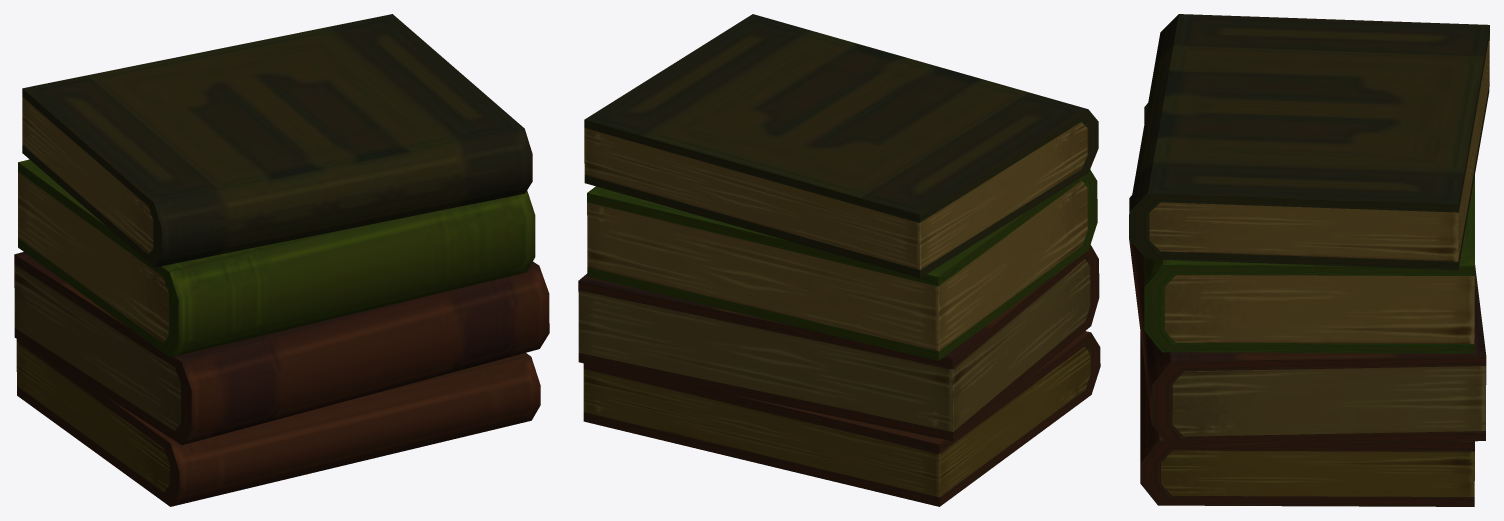
File: quaternius-fantasy-props-book-stack-1.glb
3 renders of one model, left to right at view 1: azimuth 30°, elevation 25°; view 2: azimuth 150°, elevation 25°; view 3: azimuth 270°, elevation 25°, orthographic. The views are drawn at different scales.
Parts seen in each view (by area): view 1: Book_Stack_1; view 2: Book_Stack_1; view 3: Book_Stack_1.
Boxes of the visible parts, x1=… form: Book_Stack_1: x1=14, y1=14, x2=549, y2=506; Book_Stack_1: x1=578, y1=14, x2=1100, y2=506; Book_Stack_1: x1=1129, y1=14, x2=1489, y2=506.
Bounding box in the file's own units: 0.42 × 0.315 × 0.3336.
Materials: 1 (1 with a texture image).
